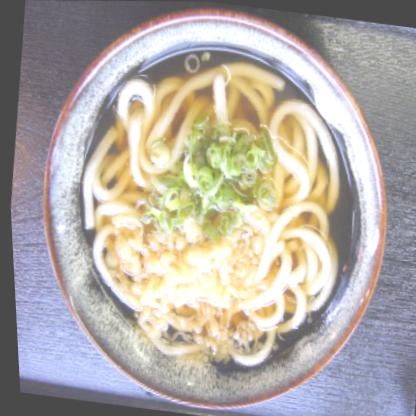Udon: (63, 47, 354, 379)
